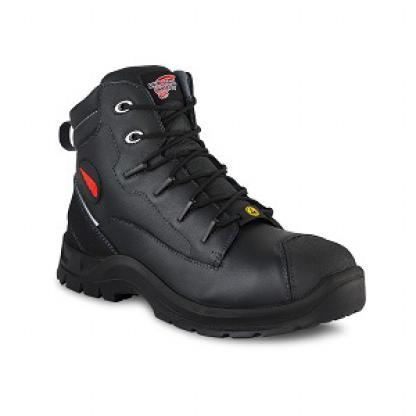bota: (51, 63, 367, 338)
